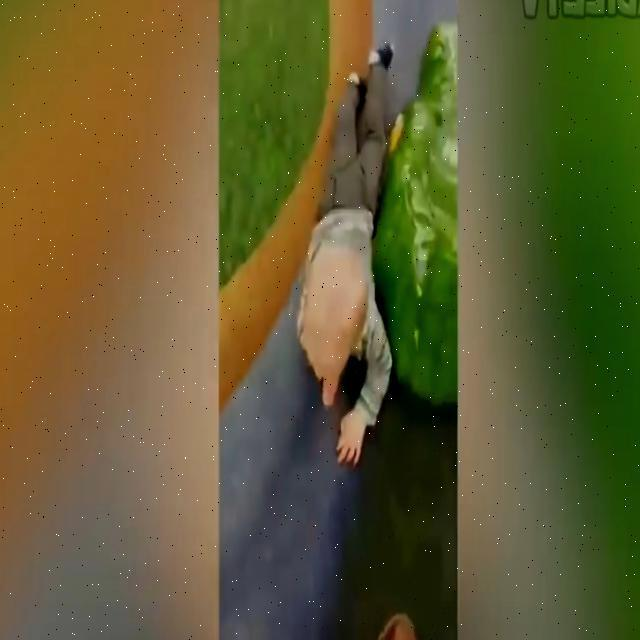child: (299, 42, 394, 464)
